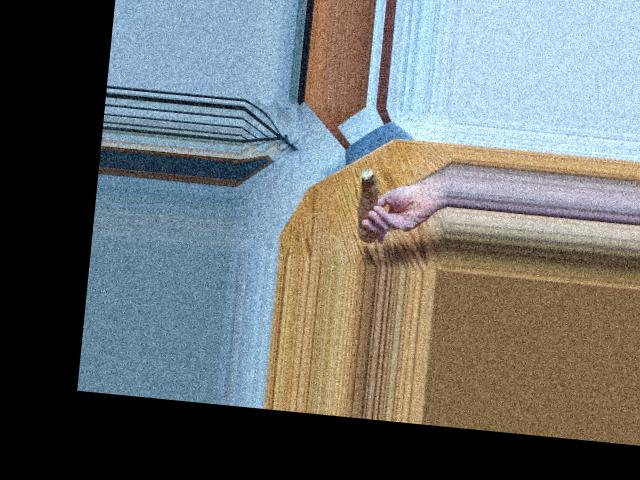sweet_potato: (357, 166, 379, 231)
